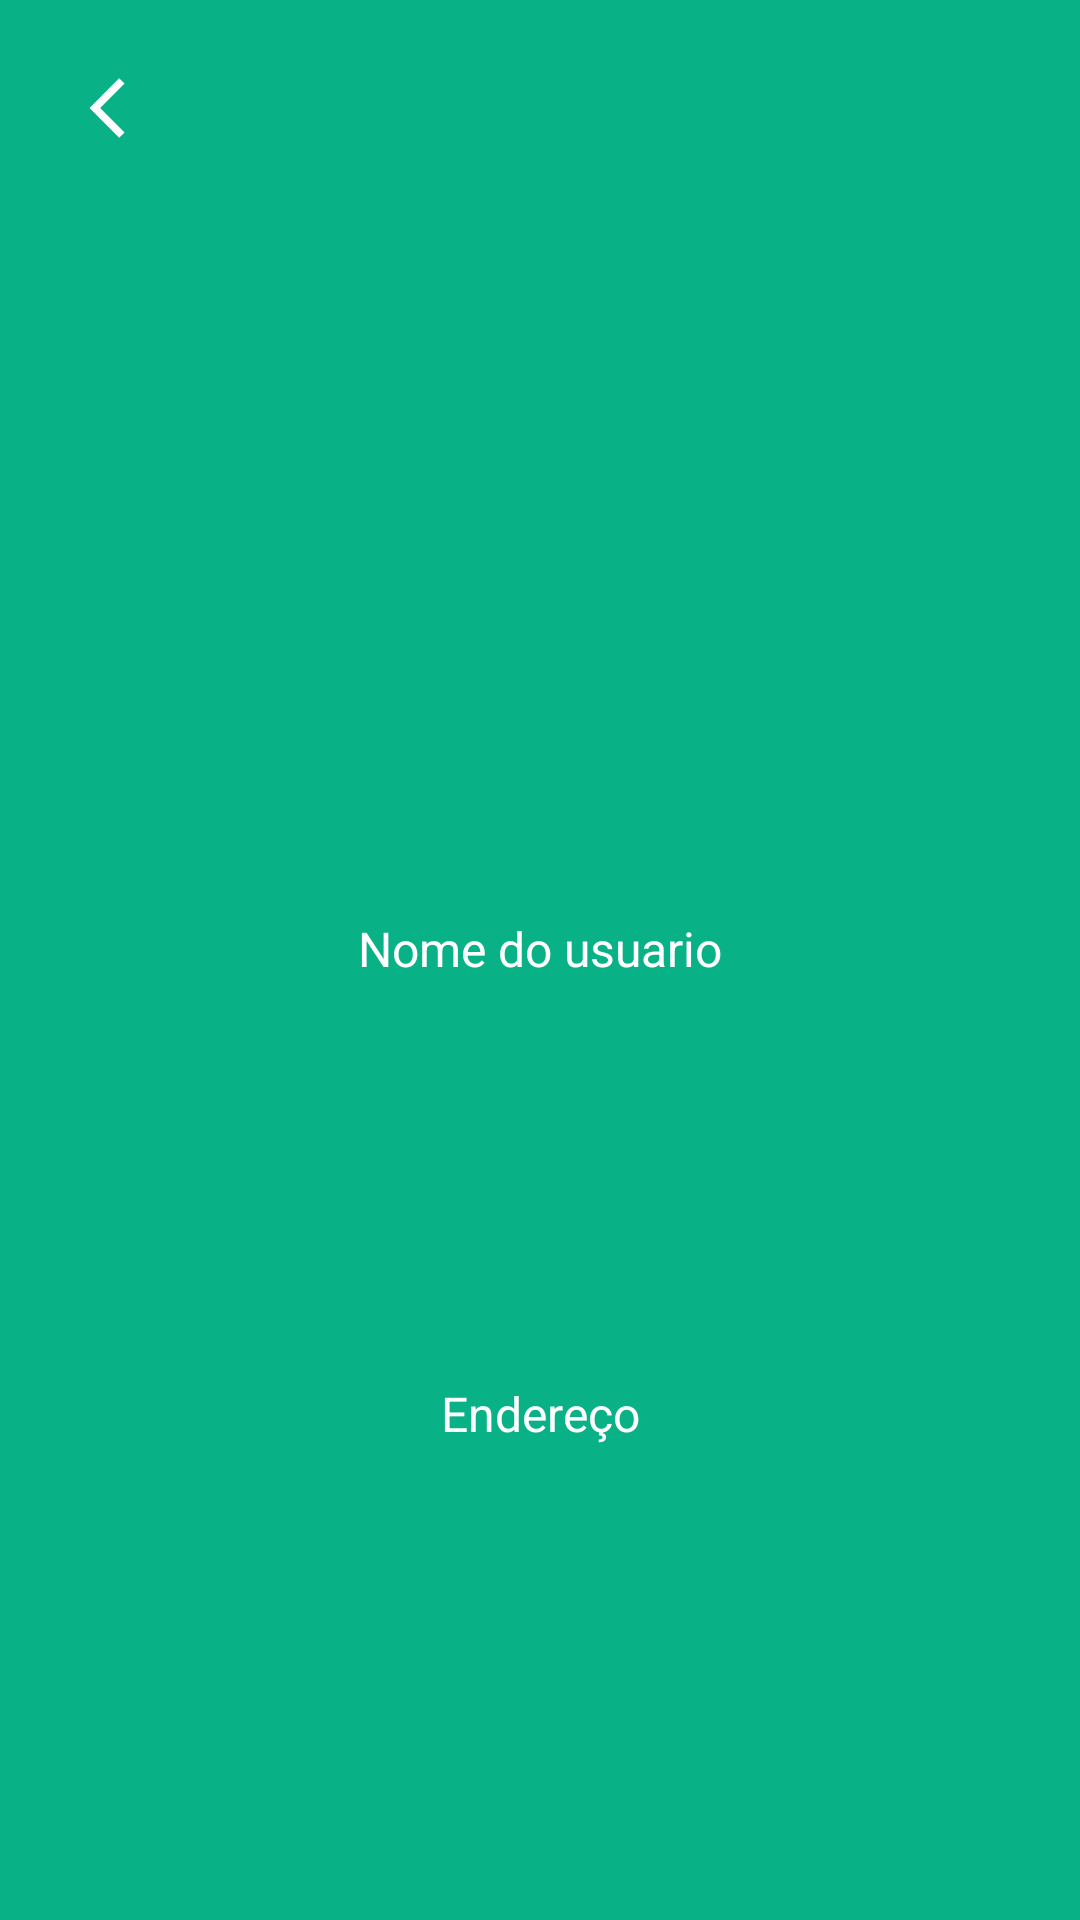

Where to tap for icons on this 1080×1920 app screen, as (x=x, y=y):
arrow back: (x=107, y=108)
